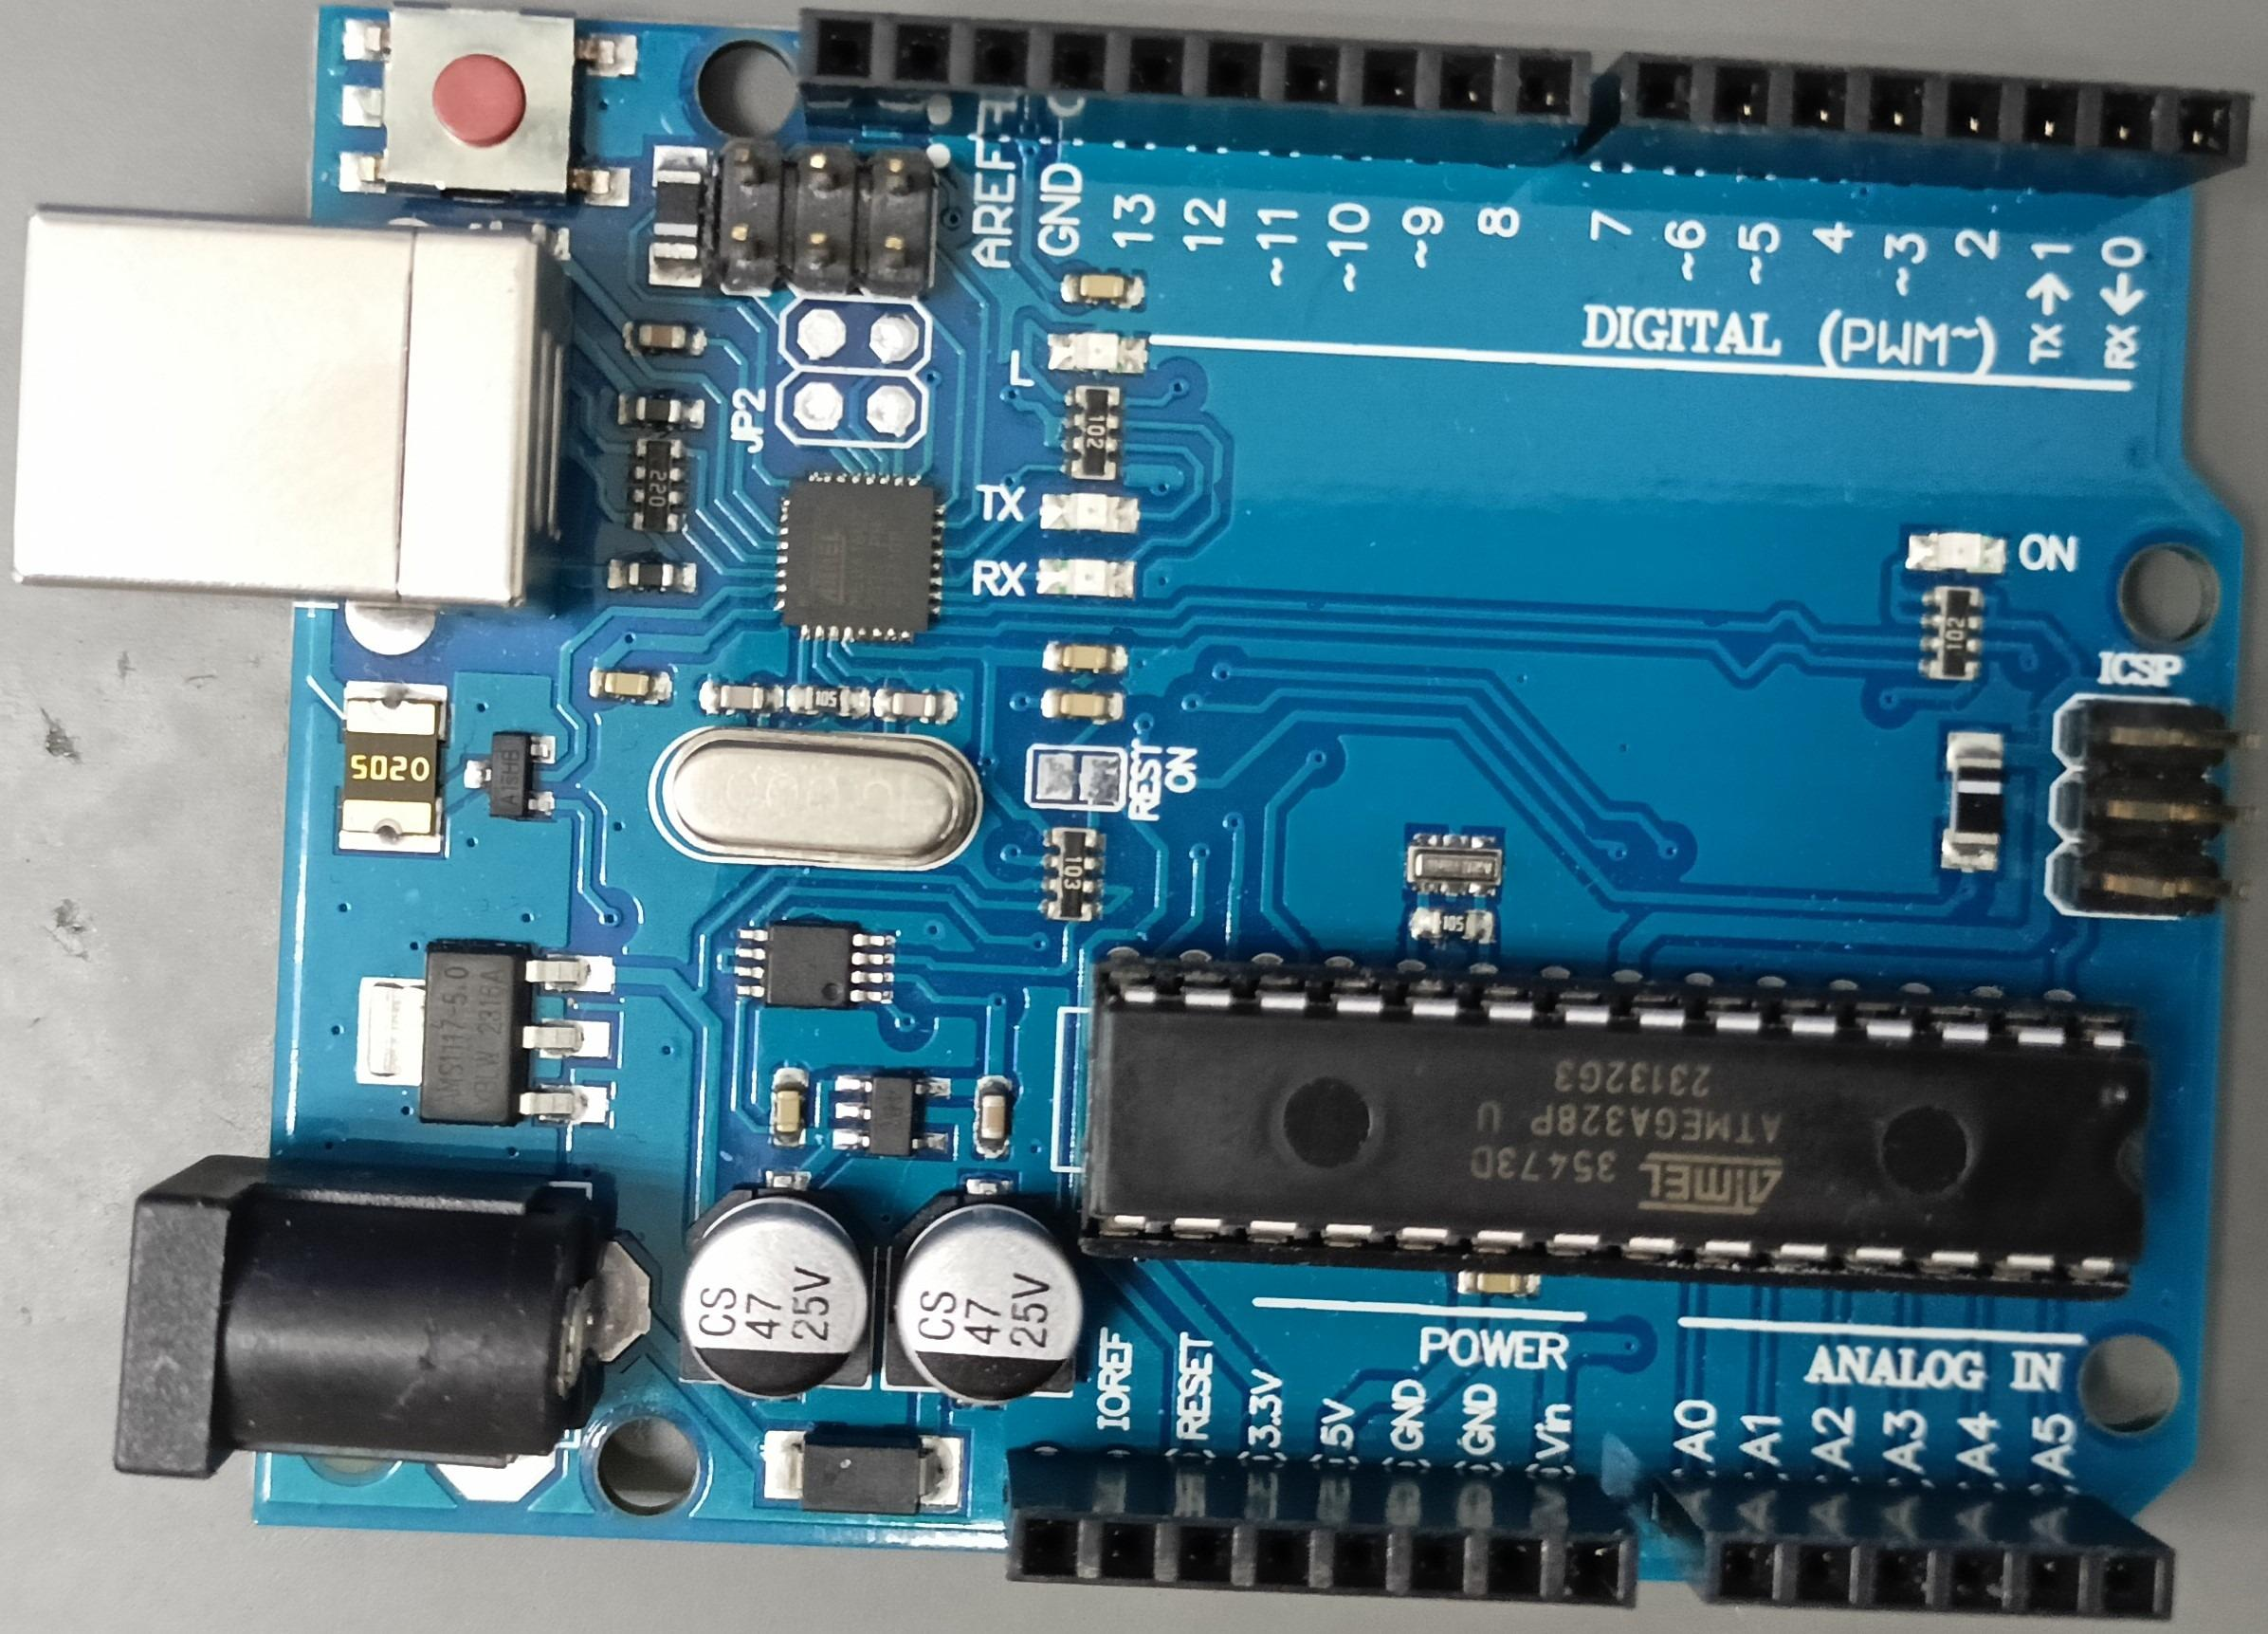ATmega328 chip: (1074, 960, 2150, 1299)
Arduino board: (11, 0, 2256, 1622)
USB: (5, 202, 576, 623)
capacitor: (886, 1190, 1085, 1407), (680, 1187, 875, 1402)
mouse bite: (1703, 615, 1727, 629), (1585, 821, 1599, 840), (1109, 627, 1139, 636), (1305, 599, 1326, 611), (1213, 477, 1222, 500)
pins: (796, 11, 1595, 167), (1000, 1444, 1636, 1615), (1574, 51, 2254, 199), (1652, 1474, 2175, 1622)
resistor: (1064, 382, 1120, 484), (629, 437, 687, 534), (1926, 586, 1984, 681), (1046, 828, 1102, 923)
